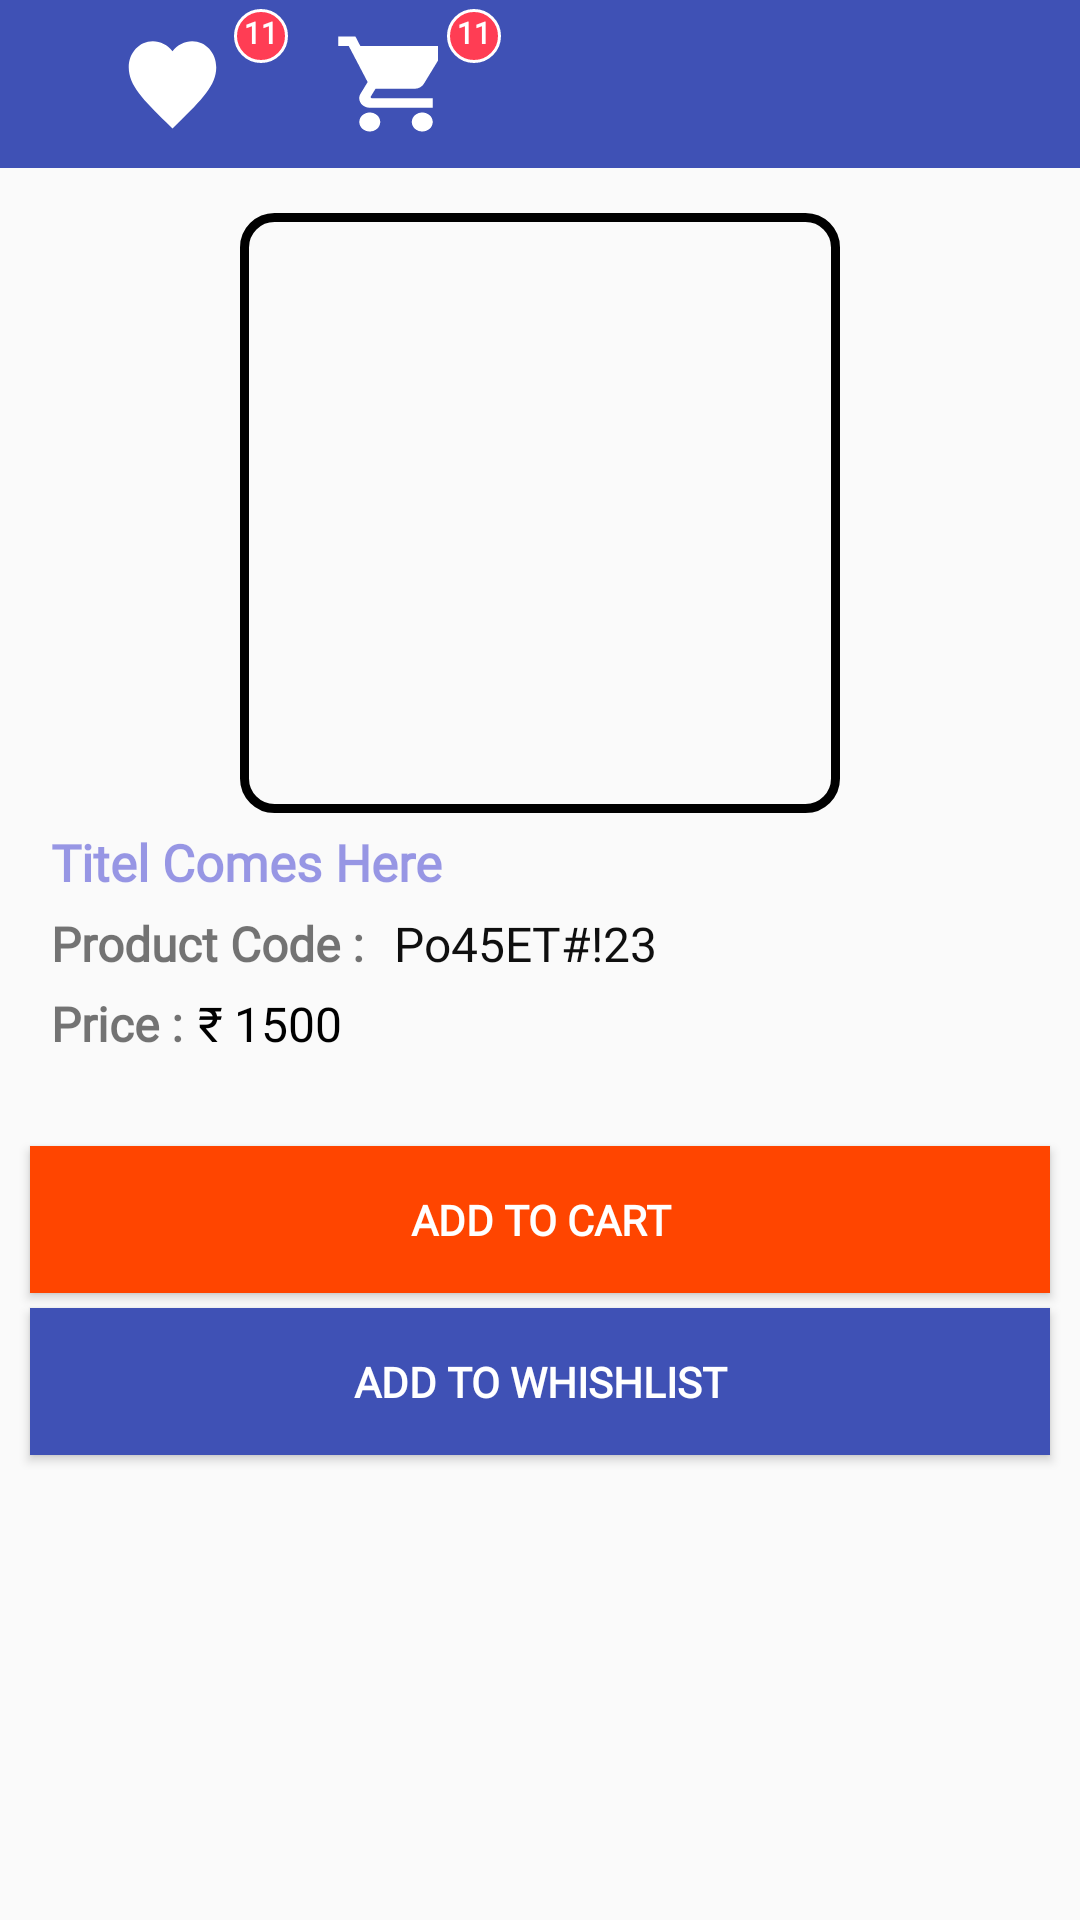

Icon click points for this 1080 x 1920 phone screenshot, format (x,y):
shopping cart: (388,84)
whish: (172,85)
